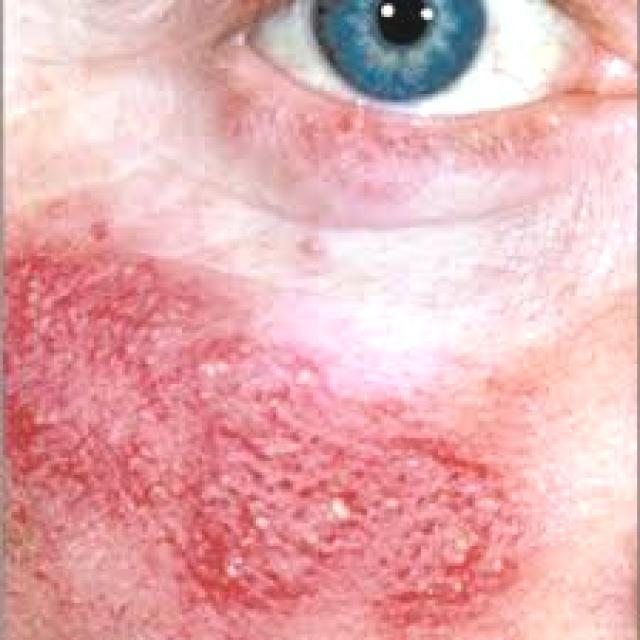Rosacea: (0, 222, 516, 640)
